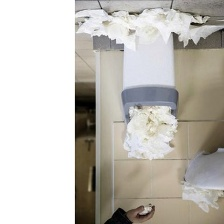tissue: (74, 3, 224, 54), (119, 100, 181, 164), (178, 179, 224, 216), (133, 202, 156, 218)
